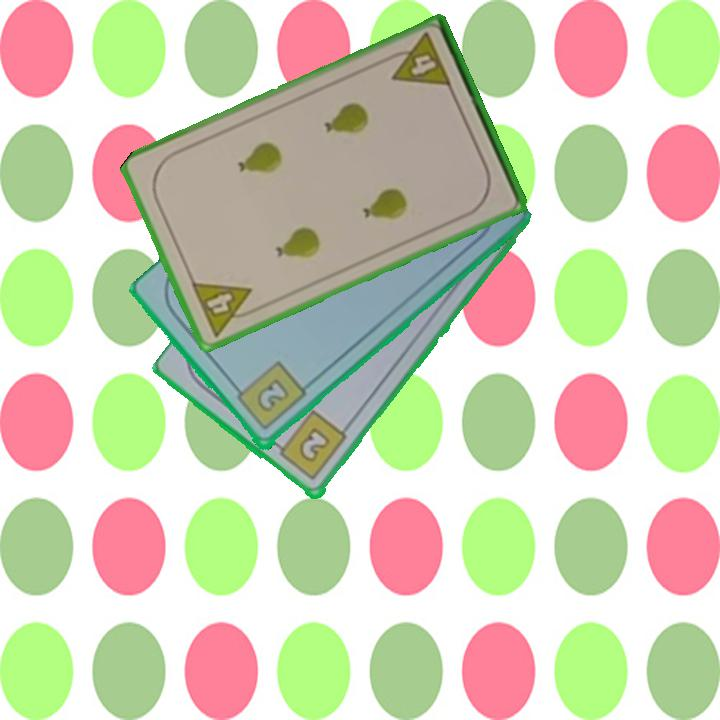2b: (270, 407, 350, 484), (229, 358, 309, 434)
4p: (187, 278, 263, 340), (381, 29, 455, 91)
